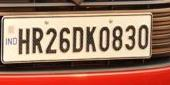0: (97, 25, 109, 52), (137, 23, 148, 49)
2: (44, 26, 57, 53)
3: (124, 23, 135, 49)
6: (58, 25, 70, 53)
8: (111, 24, 122, 51)
D: (71, 24, 83, 52)
H: (17, 25, 30, 54)
K: (84, 24, 96, 52)
R: (30, 25, 43, 53)
